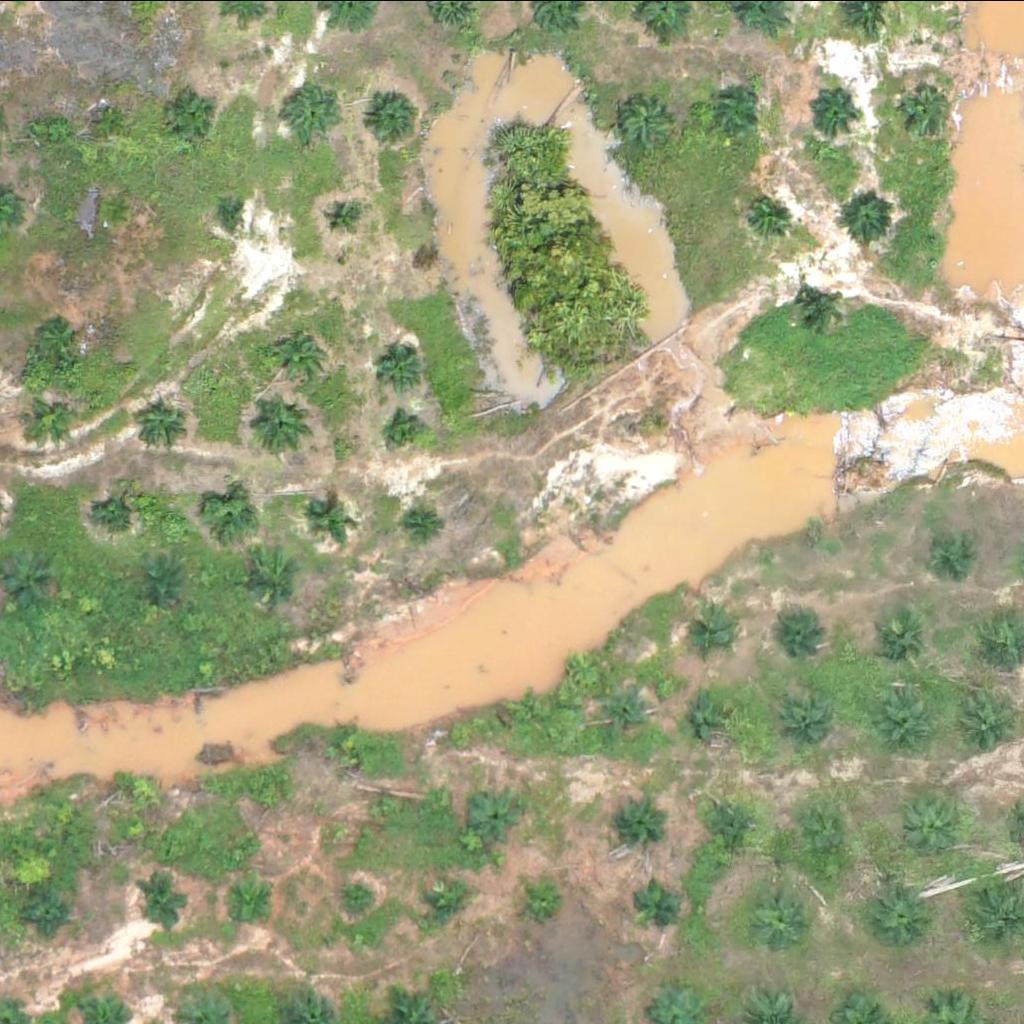Kelapa_Sawit: (803, 805, 866, 868), (779, 690, 842, 753), (876, 692, 939, 755), (957, 691, 1020, 754), (268, 325, 331, 388), (750, 884, 813, 946), (871, 885, 934, 947), (909, 796, 972, 858), (867, 606, 930, 668), (364, 86, 427, 148), (282, 82, 345, 144), (250, 392, 313, 454), (33, 308, 84, 358), (625, 95, 676, 145), (708, 84, 759, 134), (806, 84, 857, 134), (163, 88, 214, 138), (421, 879, 472, 929), (27, 395, 78, 445), (778, 602, 828, 652), (609, 795, 659, 845), (634, 877, 684, 927), (604, 688, 654, 738), (473, 789, 523, 839), (689, 692, 739, 742), (688, 606, 738, 656), (846, 193, 896, 243), (924, 524, 974, 574), (907, 82, 957, 132), (742, 190, 792, 240), (798, 281, 848, 331), (713, 798, 763, 848), (98, 487, 148, 537), (207, 489, 257, 539), (140, 400, 190, 450), (376, 340, 426, 390), (141, 875, 191, 925), (231, 877, 281, 927), (6, 553, 56, 603), (26, 884, 76, 934), (257, 551, 307, 601), (511, 692, 549, 730), (522, 880, 560, 918), (312, 502, 350, 540), (403, 501, 441, 539), (386, 414, 424, 452), (363, 788, 401, 826), (250, 778, 288, 816), (125, 772, 163, 810), (323, 196, 361, 233), (325, 725, 363, 762), (99, 191, 136, 229), (145, 562, 183, 599), (93, 99, 131, 136), (344, 879, 381, 916), (220, 202, 245, 227)
